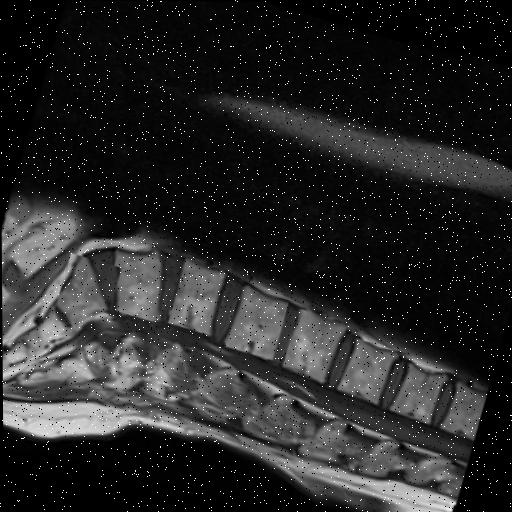L1: (336, 337, 396, 403)
L2: (280, 307, 345, 381)
L3: (223, 285, 286, 359)
L4: (166, 258, 223, 334)
L5: (110, 249, 159, 320)
S1: (54, 255, 107, 325)
